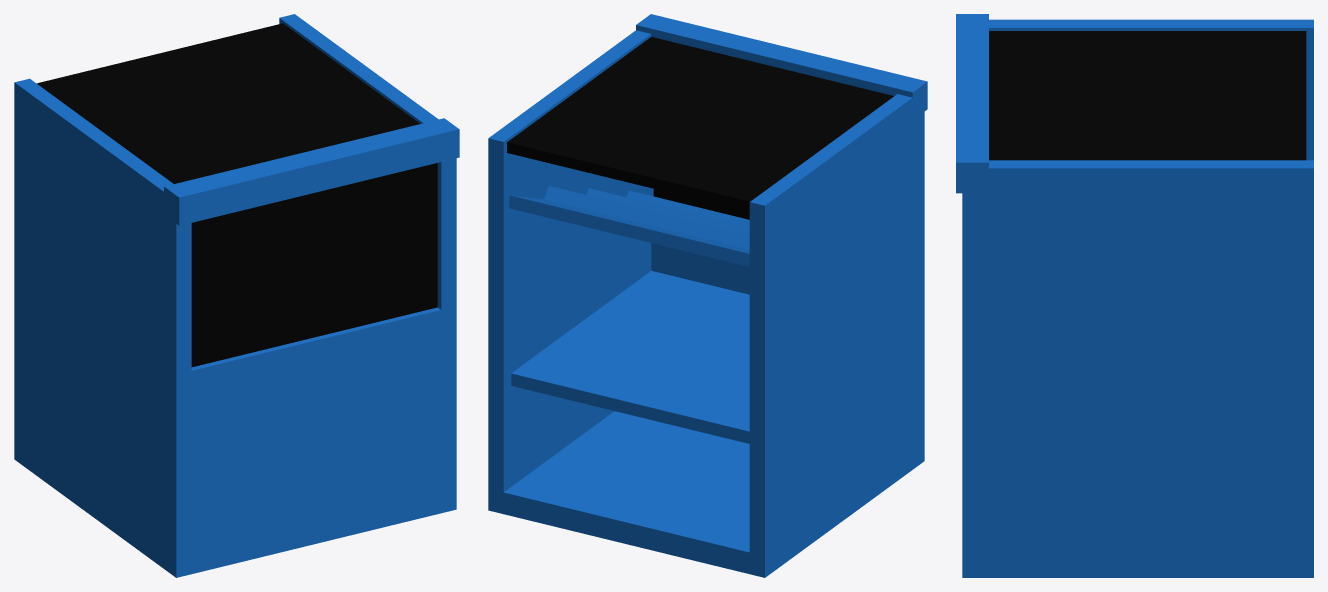
The model's file is SM_showcase_3.fbx.
3 renders of one model, left to right at view 1: azimuth 30°, elevation 25°; view 2: azimuth 150°, elevation 25°; view 3: azimuth 270°, elevation 25°, orthographic. The views are drawn at different scales.
Parts seen in each view (by area): view 1: Cube_16; view 2: Cube_16; view 3: Cube_16.
Part boxes in pixels (x1,y1,x2,y2): Cube_16: (14,14,459,577); Cube_16: (488,14,927,577); Cube_16: (956,14,1313,577).
Bounding box in the file's own units: 70 × 91.27 × 71.27.
